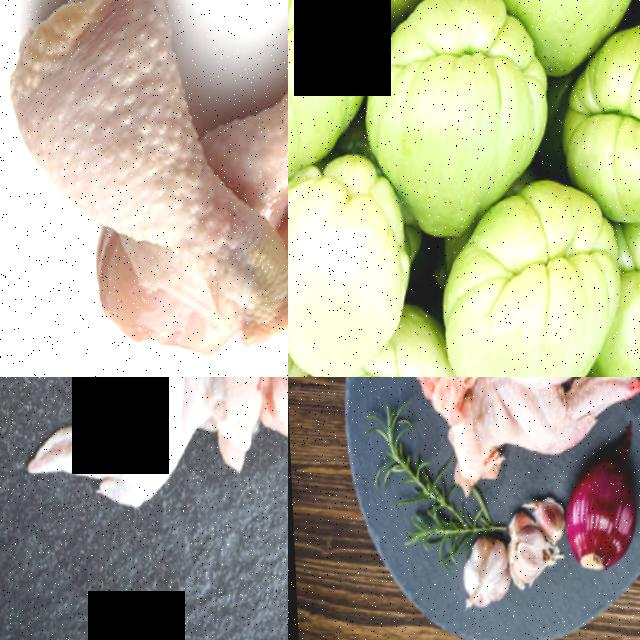chayote: (437, 185, 626, 377), (360, 12, 527, 225), (288, 169, 409, 377), (288, 0, 380, 179), (456, 0, 640, 76), (558, 63, 640, 219)
chicken thigh: (0, 0, 288, 353)
chicken wing: (13, 377, 270, 534), (443, 377, 632, 495)
garlic: (452, 533, 511, 617)
onion: (550, 457, 640, 586)
